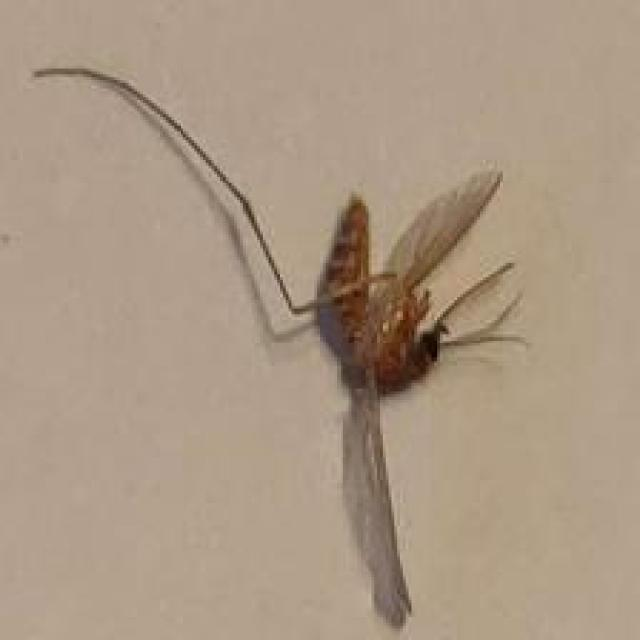Culex: (31, 63, 532, 631)
